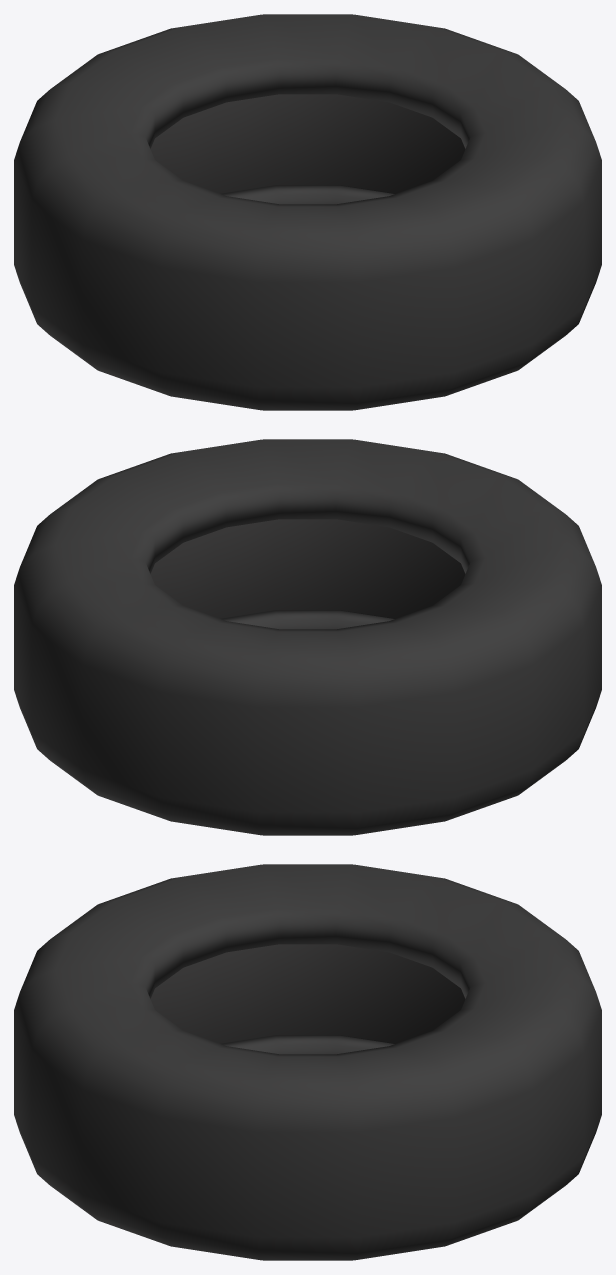
The model's file is Prop_Tire_01.fbx.
3 views of the same model, one above another, from view 1: azimuth 30°, elevation 25°; view 2: azimuth 150°, elevation 25°; view 3: azimuth 270°, elevation 25° (orthographic).
Parts seen in each view (by area): view 1: Prop_Tire_01; view 2: Prop_Tire_01; view 3: Prop_Tire_01.
Part boxes in pixels (x1,y1,x2,y2): Prop_Tire_01: (14, 14, 601, 410); Prop_Tire_01: (14, 439, 601, 835); Prop_Tire_01: (14, 864, 601, 1260).
Bounding box in the file's own units: 85.2 × 30.29 × 86.52.
